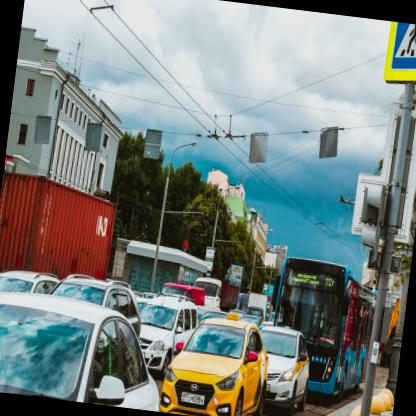bus: (397, 60, 415, 103)
car: (303, 67, 371, 104), (367, 75, 399, 108), (333, 64, 363, 82), (358, 70, 378, 95), (393, 80, 411, 106)
